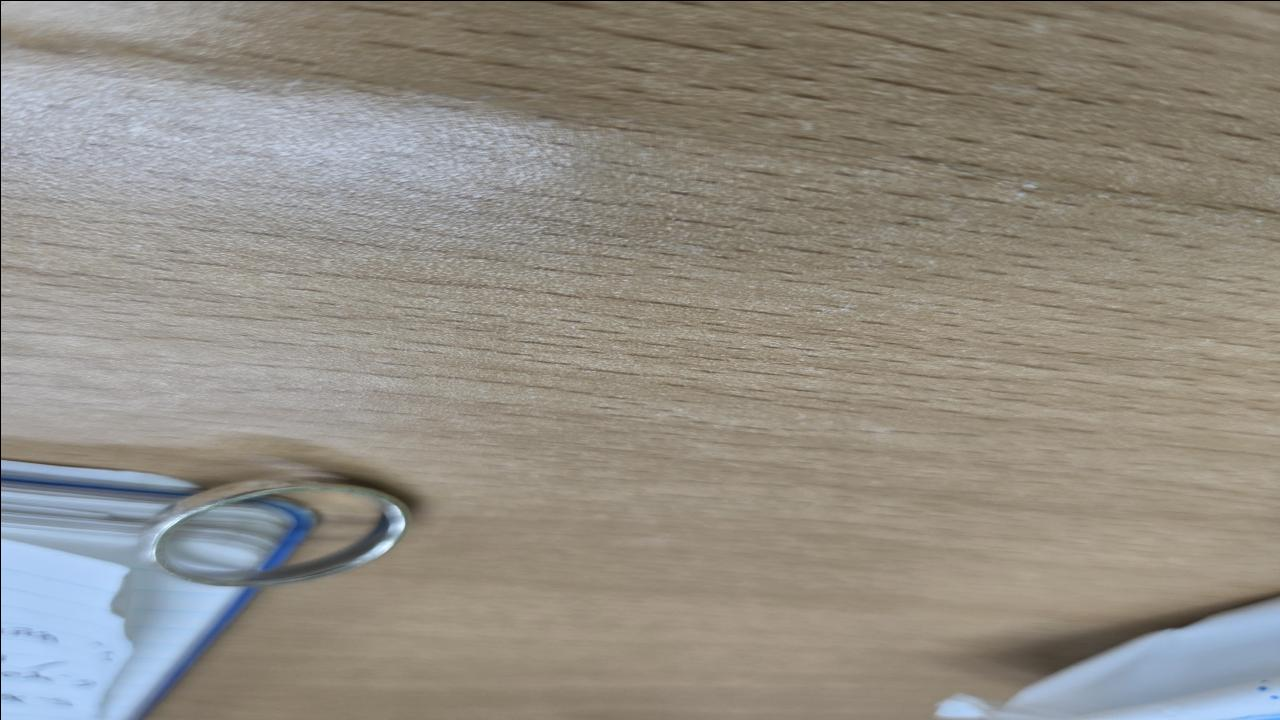ring: (132, 474, 412, 588)
